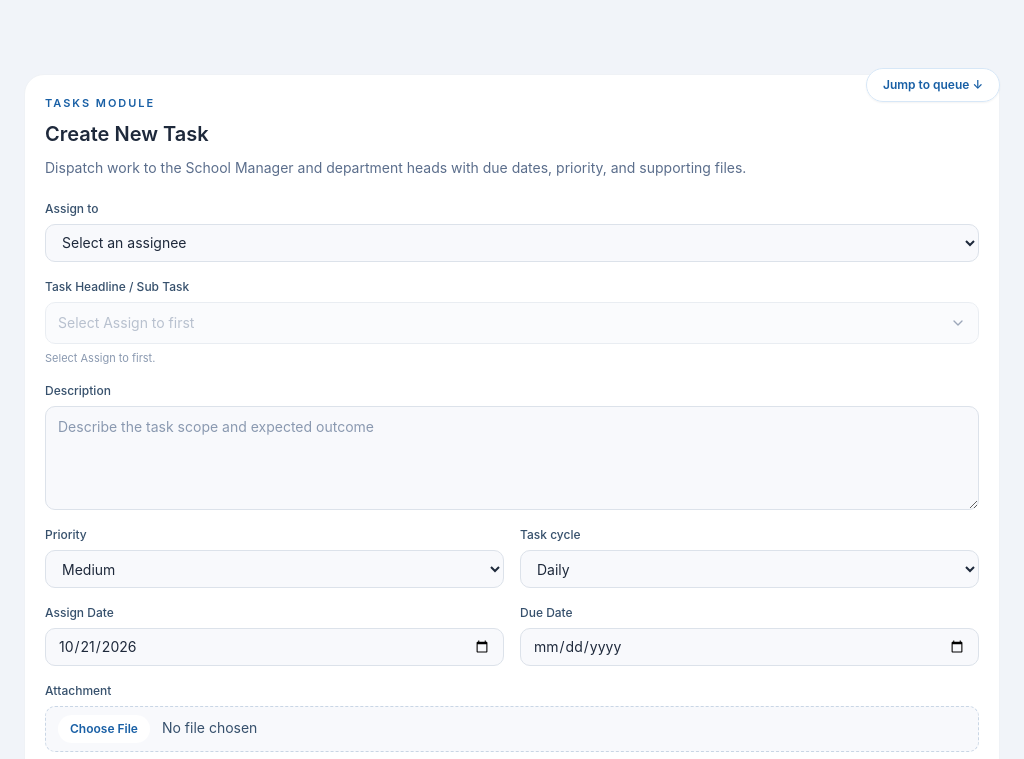
Scenario: Assignment Queue › lets the Chairman add a headline and then add its first subtask
Select "HR Head - Anita" in the dropdown labelled "Assign to" at (512, 242), box [45,224,979,262]
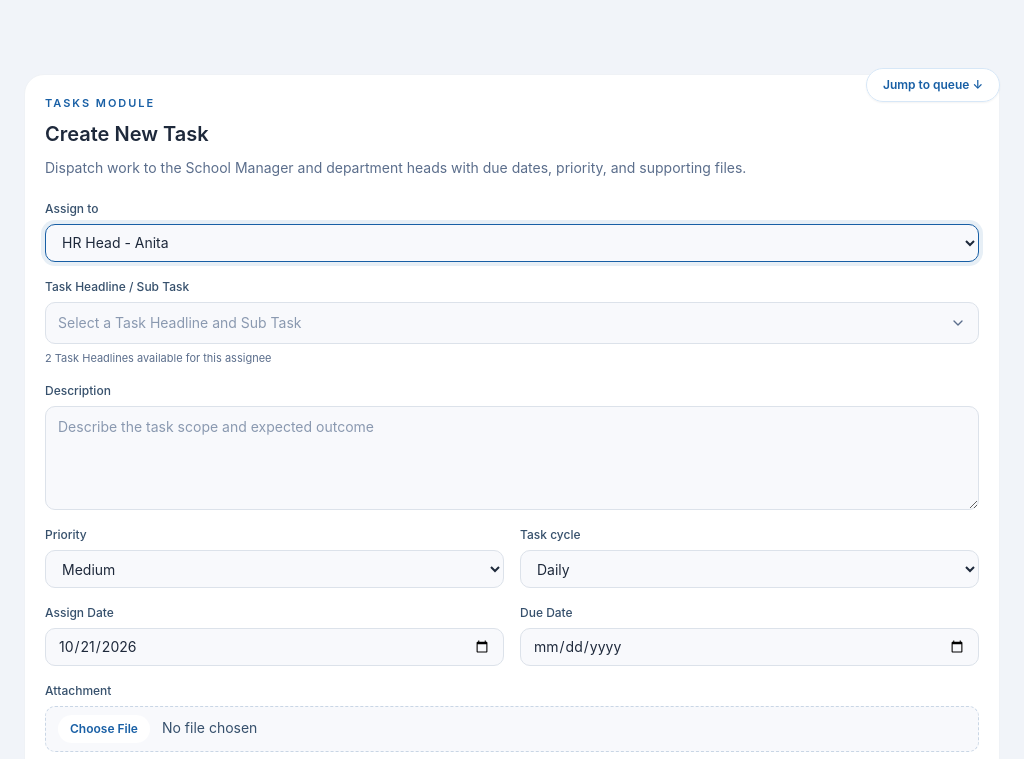
Click the button "Select a Task Headline and Sub Task" at (180, 322), box [45,302,979,344]
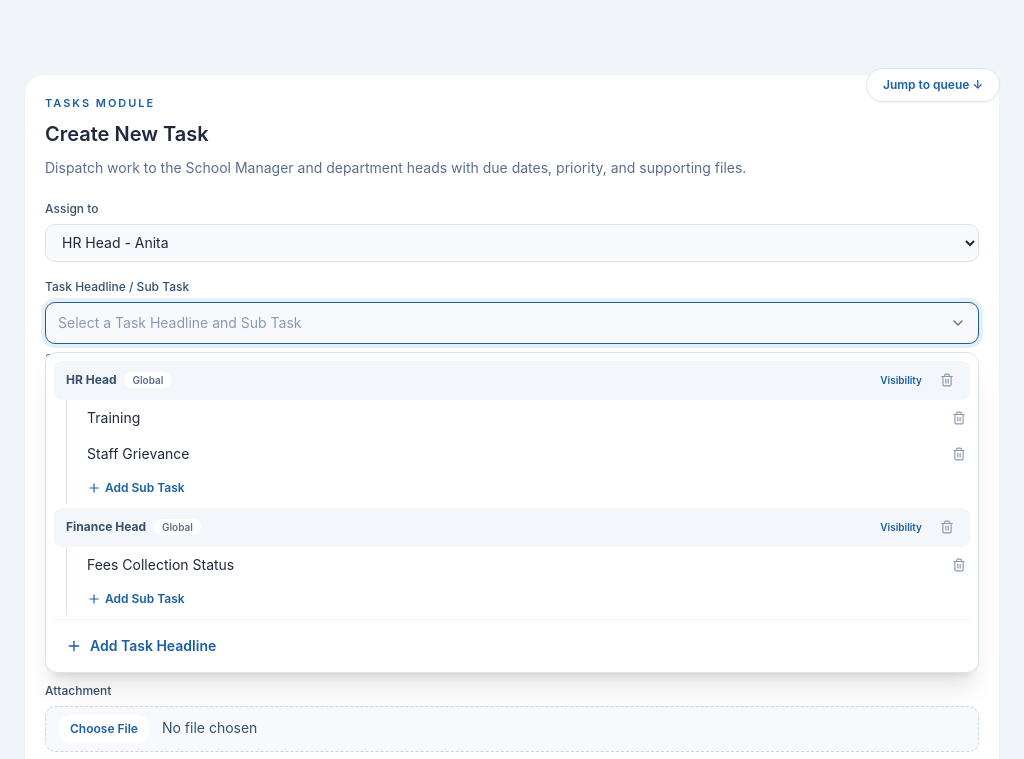
Click the button "Add Task Headline" at (153, 645), box [54,628,970,664]
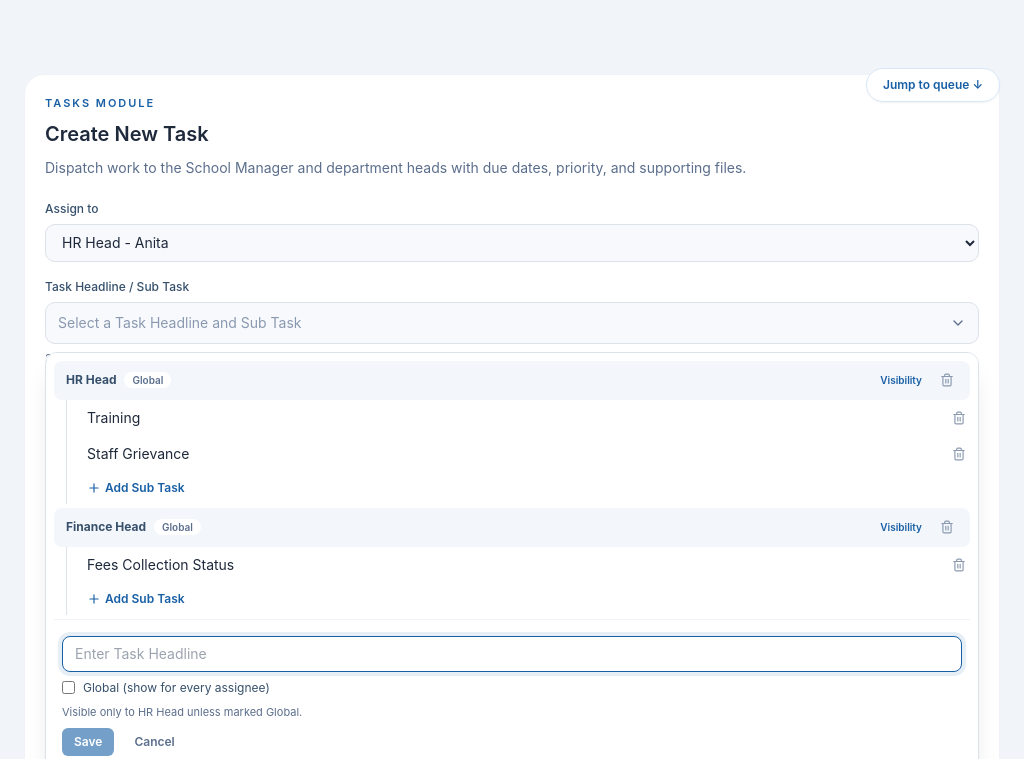
Type "New Dynamic Headline" into the field named "New Task Headline" at (512, 654), box [62,636,962,672]
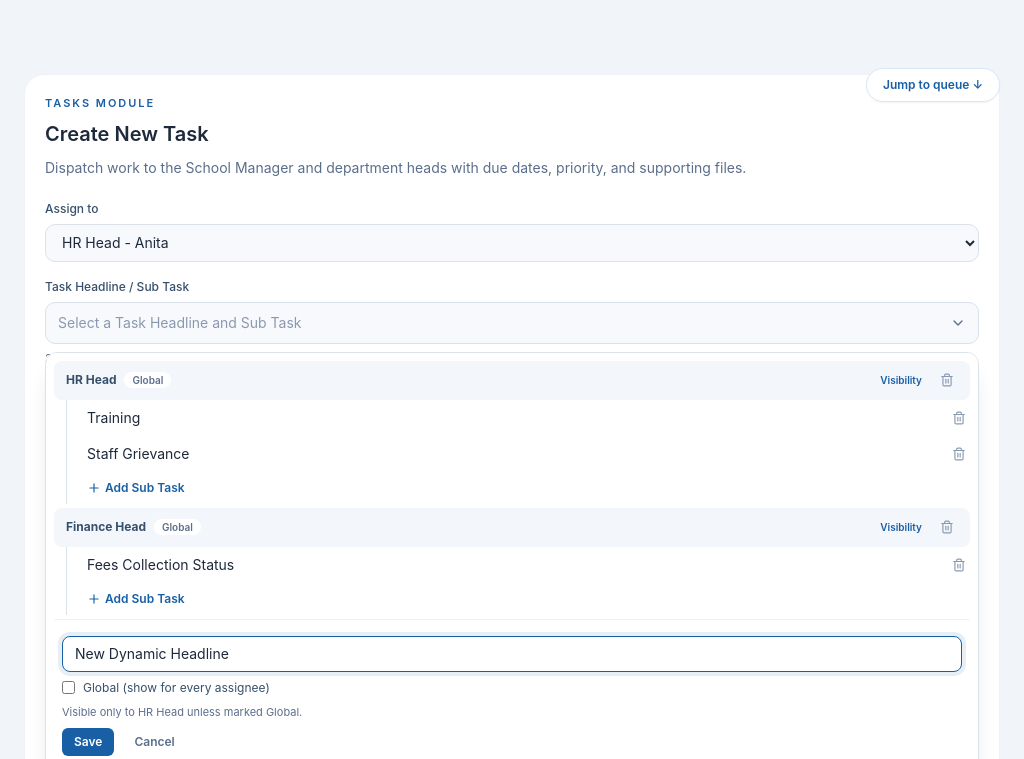
Click the button "Save" at (88, 742), box [62,728,114,756]
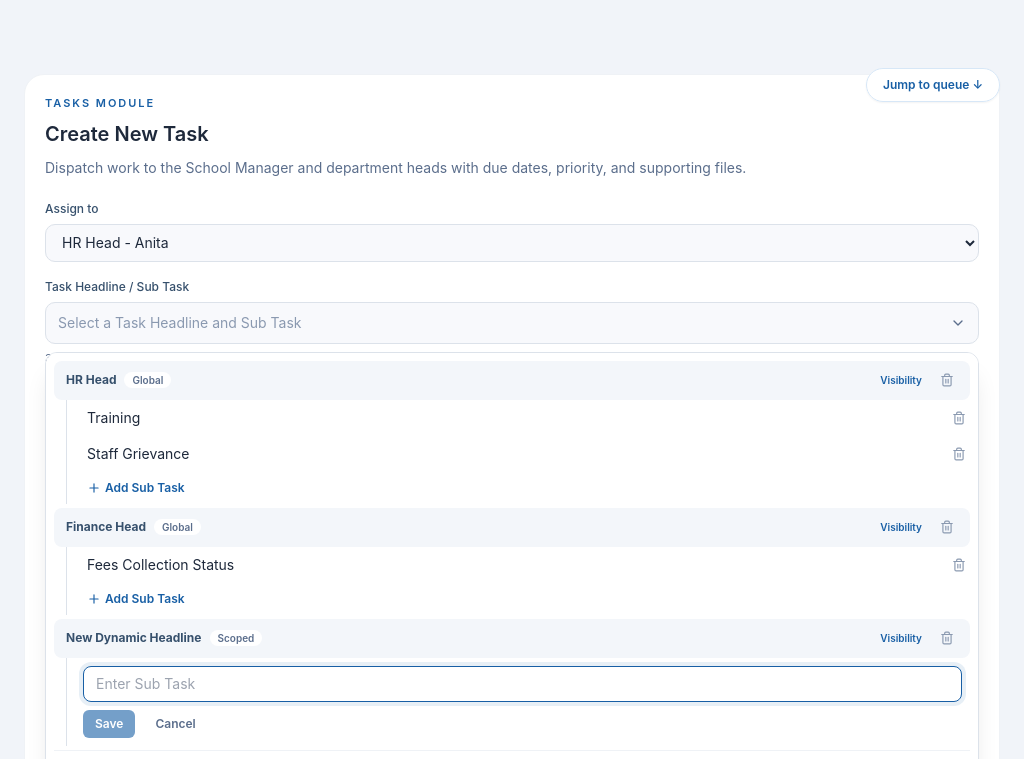
expect the text "New Dynamic Headline" is shown: met, box [66,630,202,645]
expect the field named "New Sub Task for New Dynamic Headline" is shown: met, box [83,666,962,702]
